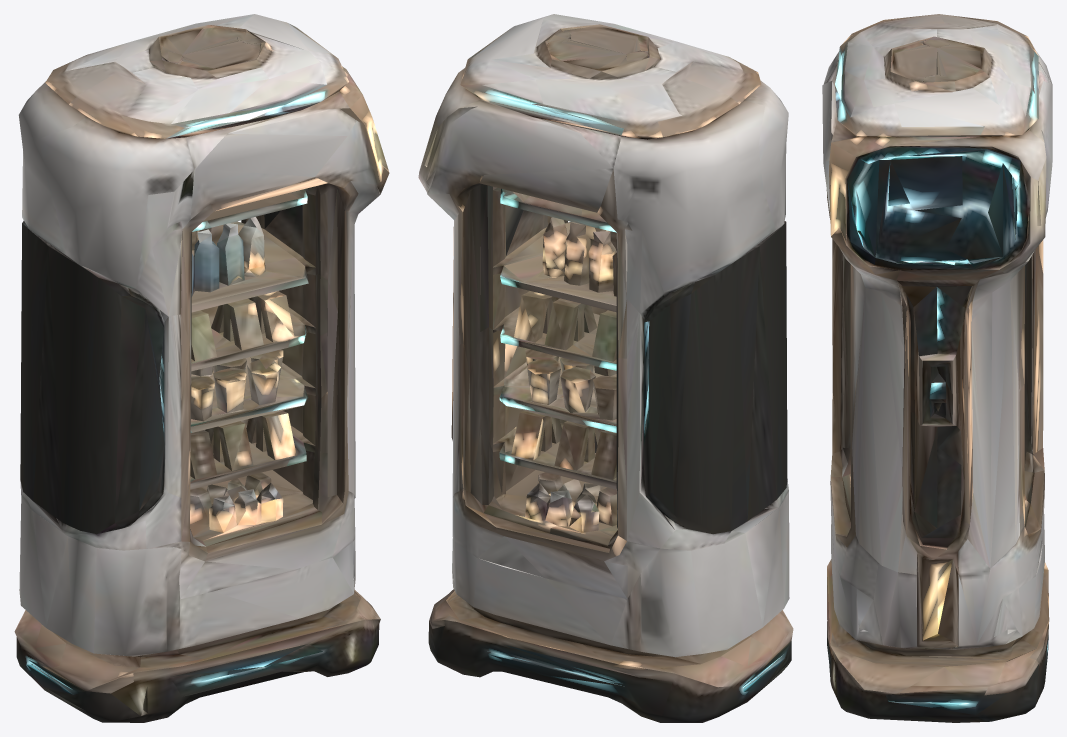
The model's file is vending.glb.
The picture shows the model from 3 angles, left to right: view 1: azimuth 30°, elevation 25°; view 2: azimuth 150°, elevation 25°; view 3: azimuth 270°, elevation 25°; orthographic projection. The views are drawn at different scales.
Parts seen in each view (by area): view 1: vending; view 2: vending; view 3: vending.
Boxes of the visible parts, x1=… form: vending: x1=14, y1=14, x2=389, y2=722; vending: x1=418, y1=14, x2=793, y2=722; vending: x1=822, y1=14, x2=1052, y2=722.
Bounding box in the file's own units: 1.27 × 2.4 × 0.8367.
1 material, 1 textured.
